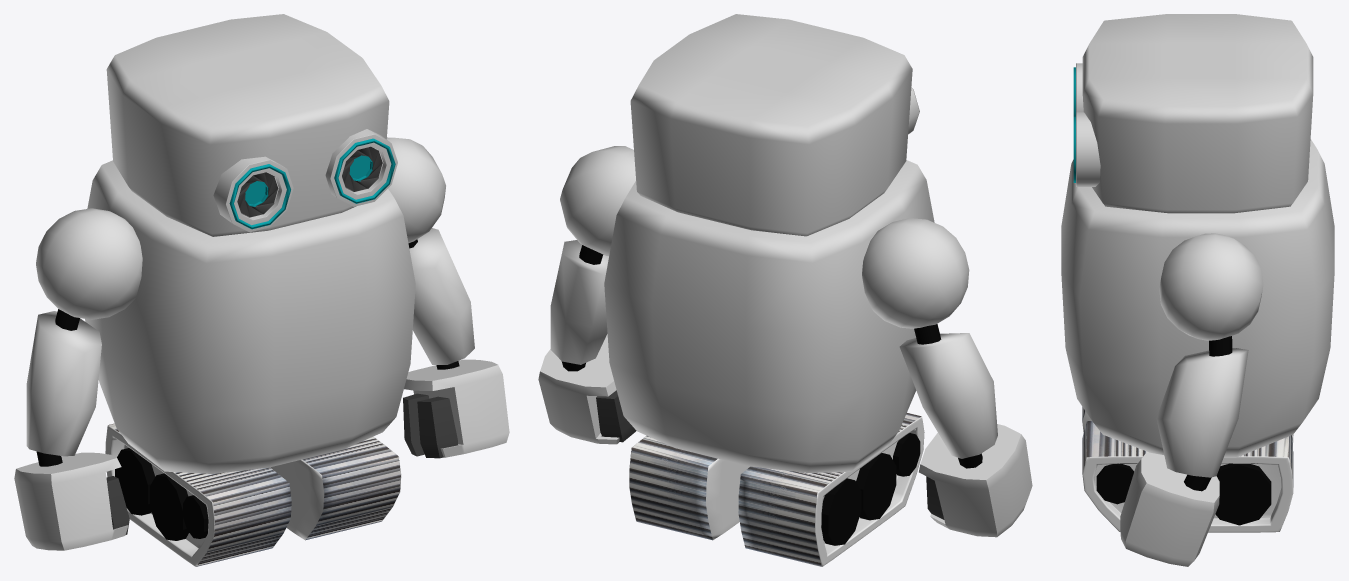
Rendered from BetterBruteWalk.fbx.
3 views of the same model, side by side, from view 1: azimuth 30°, elevation 25°; view 2: azimuth 150°, elevation 25°; view 3: azimuth 270°, elevation 25° (orthographic). The views are drawn at different scales.
Visible parts, largest first — view 1: polySurface36, polySurface38, polySurface40, polySurface67, polySurface39, polySurface55, polySurface63, polySurface54, polySurface57, polySurface61, polySurface50, polySurface47 (+10 smaller); view 2: polySurface36, polySurface38, polySurface40, polySurface67, polySurface39, polySurface55, polySurface63, polySurface54, polySurface61, polySurface57, polySurface42, polySurface44 (+2 smaller); view 3: polySurface36, polySurface38, polySurface61, polySurface54, polySurface57, polySurface39, polySurface41, polySurface47, polySurface45, polySurface60, polySurface50.
Boxes of the visible parts, x1,y1,x2,y2 form: polySurface36: (85, 160, 415, 473); polySurface38: (106, 14, 389, 236); polySurface40: (105, 423, 291, 566); polySurface67: (36, 208, 142, 319); polySurface39: (270, 436, 401, 540); polySurface55: (26, 311, 101, 456); polySurface63: (14, 452, 128, 550); polySurface54: (409, 228, 474, 364); polySurface57: (404, 359, 509, 457); polySurface61: (386, 137, 445, 243); polySurface50: (213, 156, 293, 232); polySurface47: (325, 129, 397, 206); polySurface36: (604, 160, 934, 472); polySurface38: (630, 14, 912, 236); polySurface40: (738, 413, 924, 566); polySurface67: (862, 218, 969, 328); polySurface39: (629, 435, 749, 540); polySurface55: (899, 333, 997, 458); polySurface63: (919, 424, 1032, 537); polySurface54: (550, 240, 608, 364); polySurface61: (560, 146, 635, 255); polySurface57: (538, 334, 619, 444); polySurface42: (821, 478, 861, 545); polySurface44: (856, 453, 896, 520); polySurface36: (1061, 139, 1334, 457); polySurface38: (1082, 14, 1313, 213); polySurface61: (1159, 233, 1263, 340); polySurface54: (1156, 348, 1248, 477); polySurface57: (1120, 452, 1219, 566); polySurface39: (1082, 421, 1293, 532); polySurface41: (1215, 463, 1271, 525); polySurface47: (1076, 112, 1100, 186); polySurface45: (1096, 464, 1133, 504); polySurface60: (1209, 336, 1232, 356); polySurface50: (1076, 63, 1083, 112).
Bounding box in the file's own units: 2.74 × 2.52 × 1.46.
